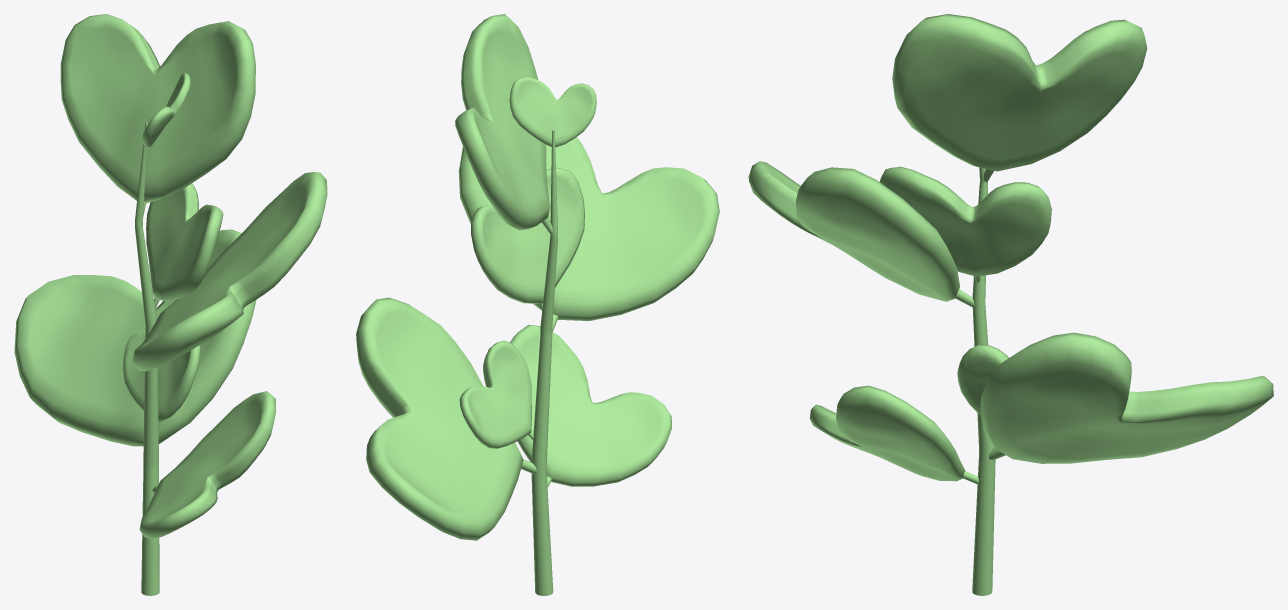
The model's file is herb_leaves_01.fbx.
3 renders of one model, left to right at view 1: azimuth 30°, elevation 25°; view 2: azimuth 150°, elevation 25°; view 3: azimuth 270°, elevation 25°, orthographic. The views are drawn at different scales.
Parts seen in each view (by area): view 1: herb_plant_leaf_01; view 2: herb_plant_leaf_01; view 3: herb_plant_leaf_01.
Part boxes in pixels (x1,y1,x2,y2): herb_plant_leaf_01: [14, 14, 327, 595]; herb_plant_leaf_01: [356, 14, 719, 595]; herb_plant_leaf_01: [748, 14, 1273, 595].
Bounding box in the file's own units: 0.237 × 0.5606 × 0.4354.
